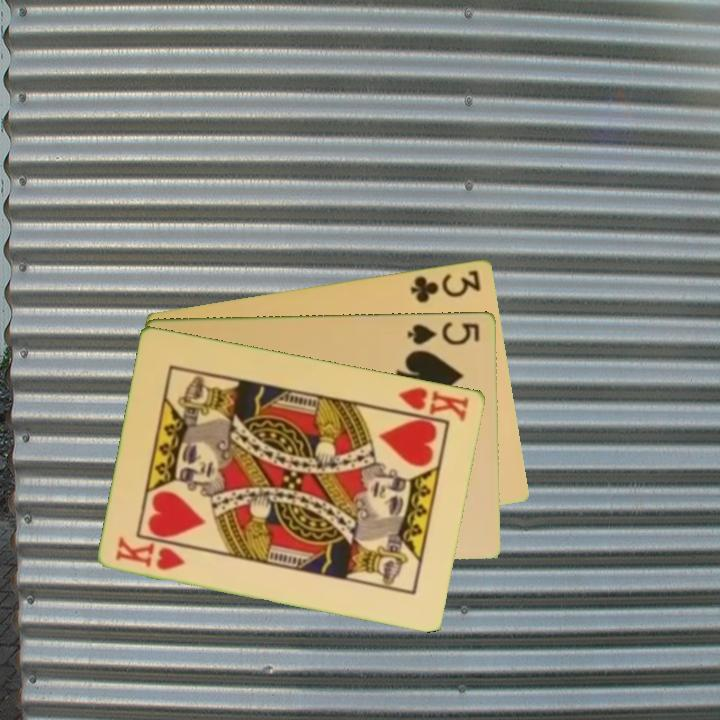3c: (407, 266, 484, 306)
5s: (404, 318, 483, 348)
Kh: (388, 383, 472, 425), (112, 533, 189, 573)
